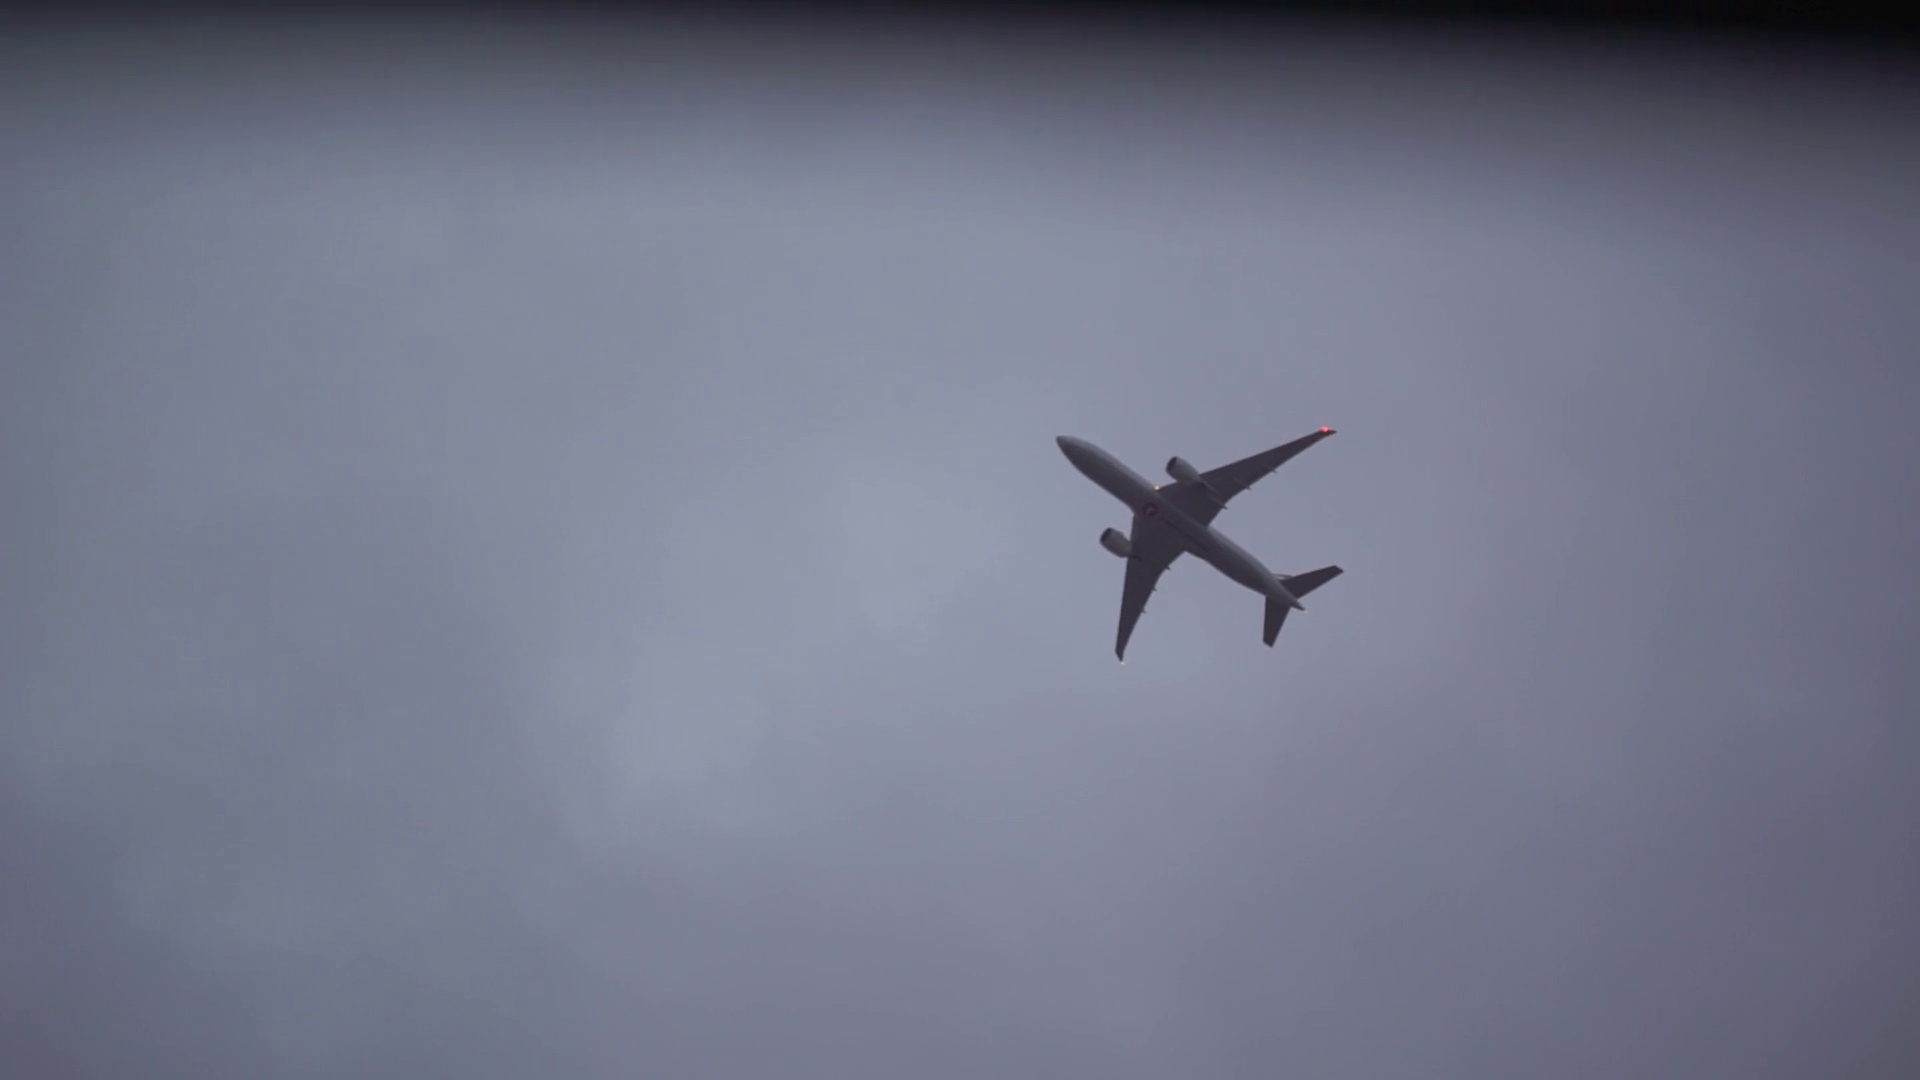plane: (1055, 427, 1342, 665)
